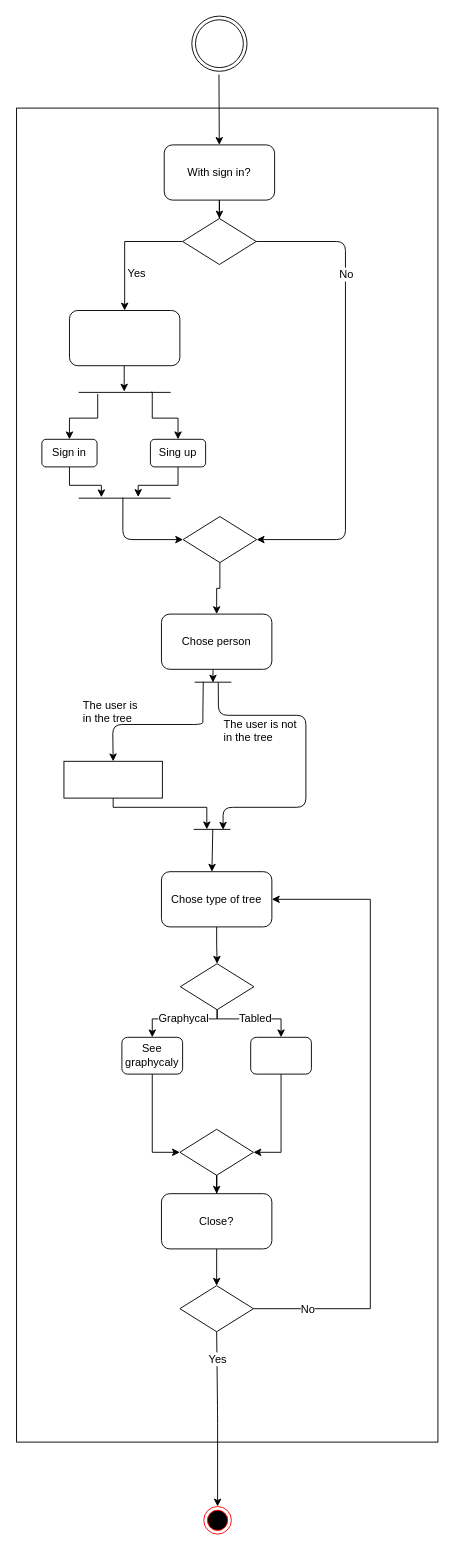
Image size: 454x1550. Some labels were removed from this diagram. The shapes that lost their labels are listed below. From the top down, each one's centre as x and y in pixels, then its label:
At [124,338]: "Having account?".
At [112,779]: "Stand up the user in tree".
At [280,1055]: "See tabled".
